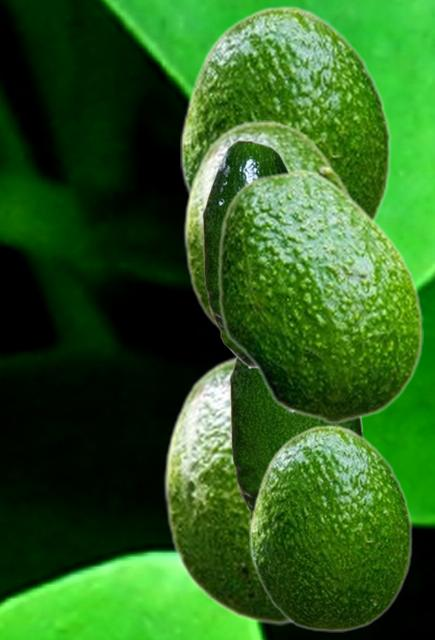avocado: (216, 167, 422, 423), (180, 5, 391, 219), (182, 120, 356, 332), (162, 355, 291, 624), (249, 424, 412, 631), (229, 356, 365, 521), (202, 139, 290, 367)
